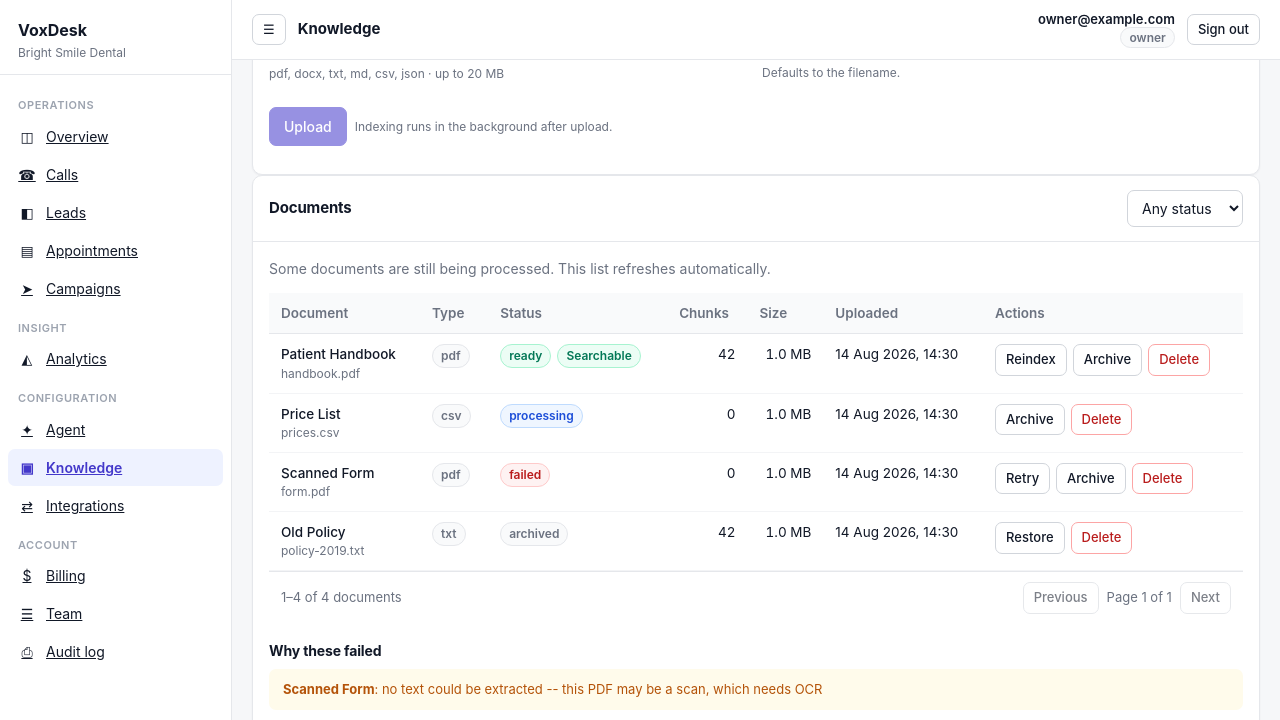
Scenario: archive and delete confirmation › warns that a permanent delete cannot be undone and sends hard=true
(page scrolled)
Click the button "Delete" in the row of "Patient Handbook": {"x": 1179, "y": 360} [1148,344,1210,376]
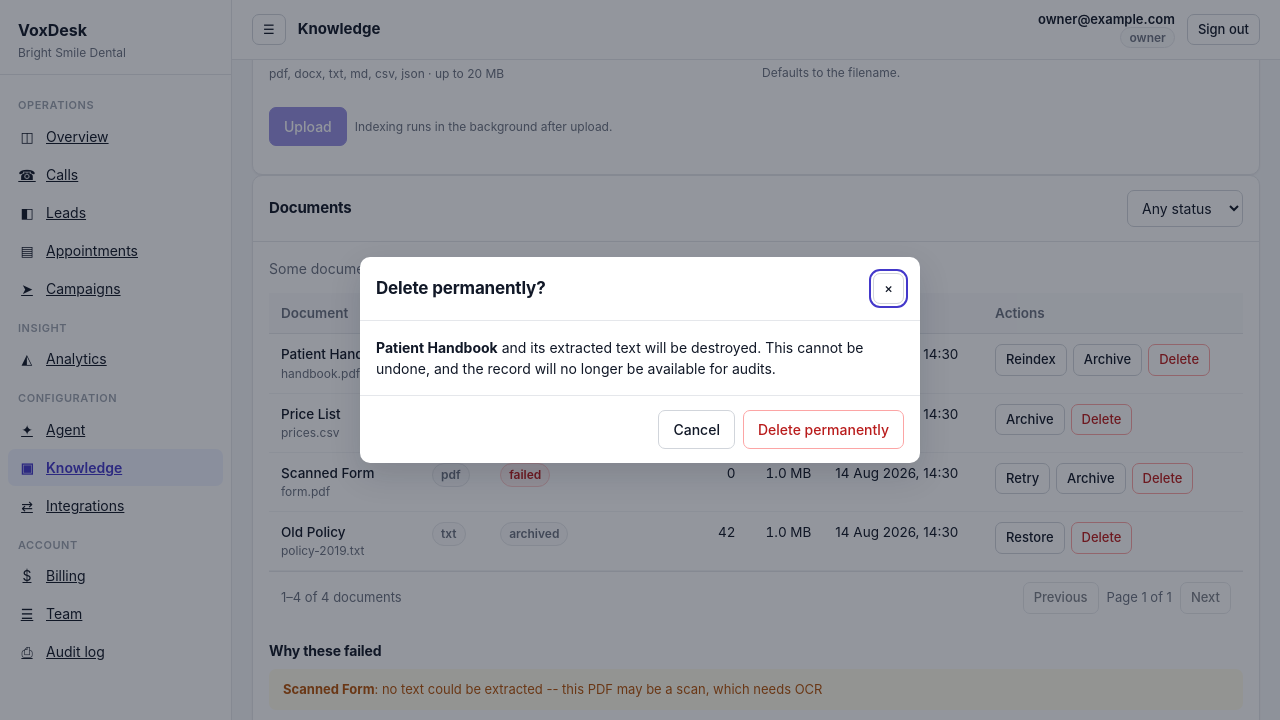
Result: the dialog shows "cannot be undone" at [376,339,863,377]
Click the button "Delete permanently": {"x": 824, "y": 430} [743,410,904,449]
(page scrolled)
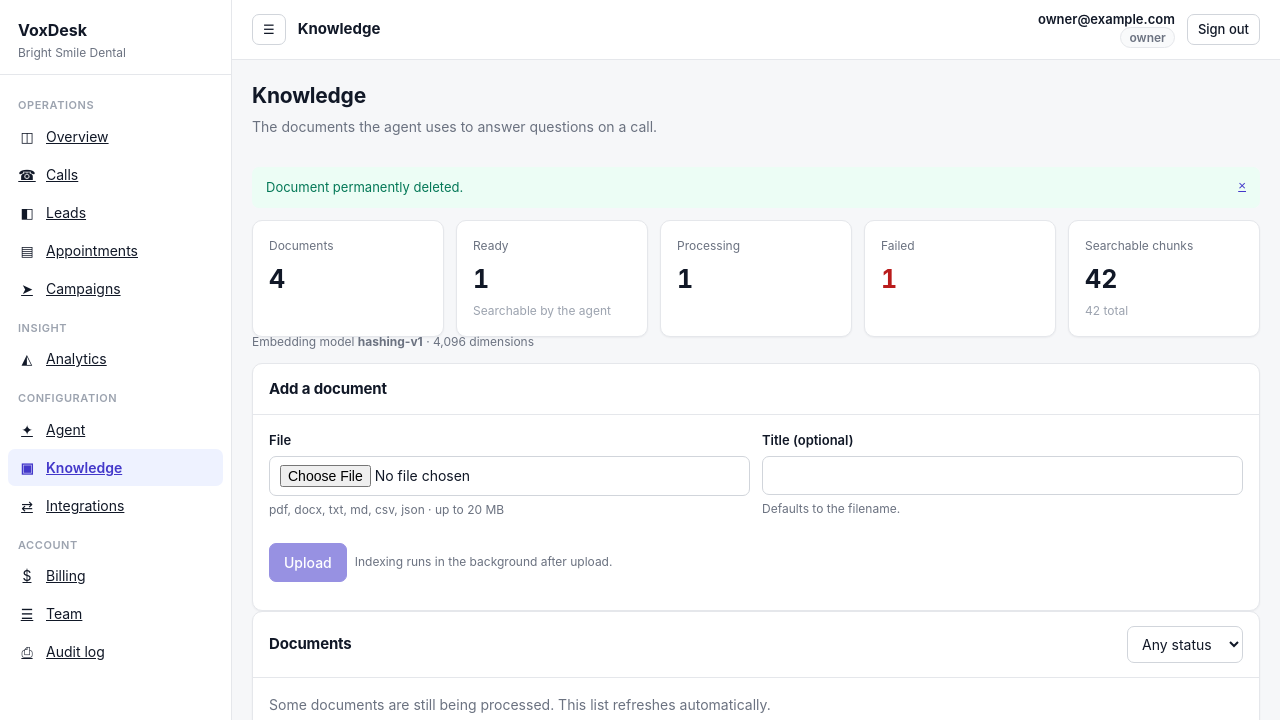
Result: the text "Document permanently deleted." is shown at [266,178,463,194]
